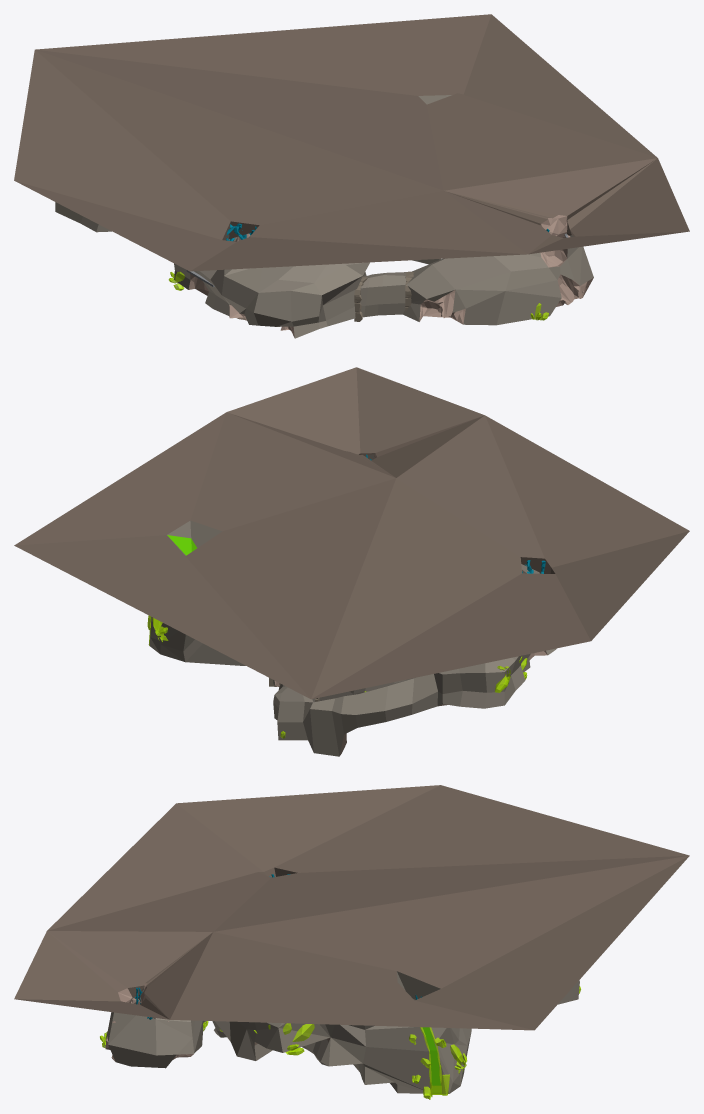
The model's file is Alpha V2.fbx.
3 renders of one model, top to bottom at view 1: azimuth 30°, elevation 25°; view 2: azimuth 150°, elevation 25°; view 3: azimuth 270°, elevation 25°, orthographic. The views are drawn at different scales.
Visible parts, largest first — view 1: pasted__tall rock!5; view 2: pasted__tall rock!5; view 3: pasted__tall rock!5, pasted__Cube18.
Part boxes in pixels (left/top/right/bottom): pasted__tall rock!5: left=14, top=14, right=689, bottom=338; pasted__tall rock!5: left=14, top=367, right=689, bottom=756; pasted__tall rock!5: left=14, top=785, right=689, bottom=1093; pasted__Cube18: left=283, top=1023, right=314, bottom=1055.
Bounding box in the file's own units: 11539 × 2556 × 13304.
